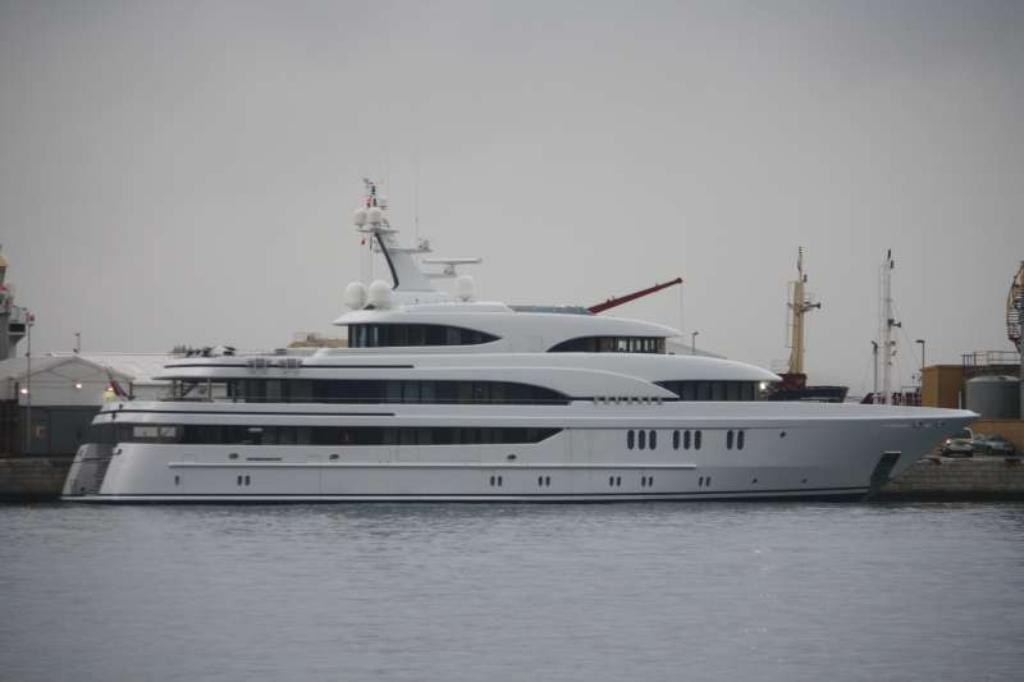PassengerShip: (29, 199, 975, 510)
